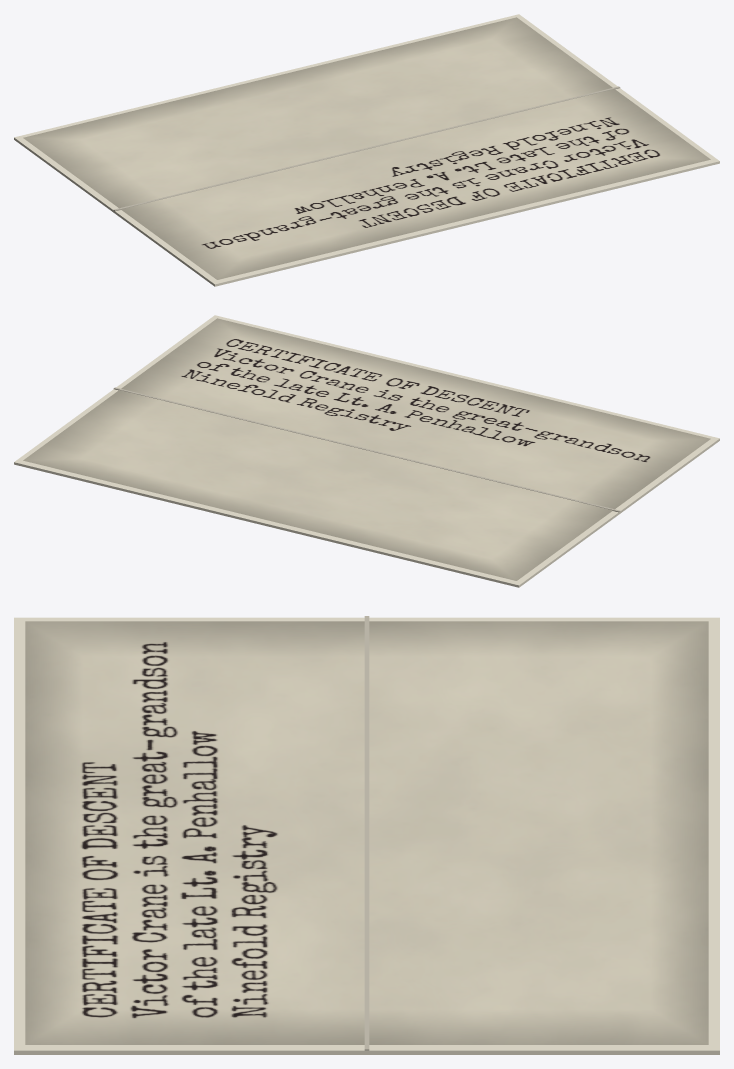
Rendered from certificate_crane.fbx.
3 renders of one model, top to bottom at view 1: azimuth 30°, elevation 25°; view 2: azimuth 150°, elevation 25°; view 3: azimuth 270°, elevation 25°, orthographic. The views are drawn at different scales.
Visible parts, largest first — view 1: certificate_crane; view 2: certificate_crane; view 3: certificate_crane.
Part boxes in pixels (bbox=[...]): certificate_crane: bbox=[14, 14, 719, 286]; certificate_crane: bbox=[14, 315, 719, 587]; certificate_crane: bbox=[14, 616, 719, 1054].
Size of the model in its own units: 0.18 by 0.0011 by 0.124.
